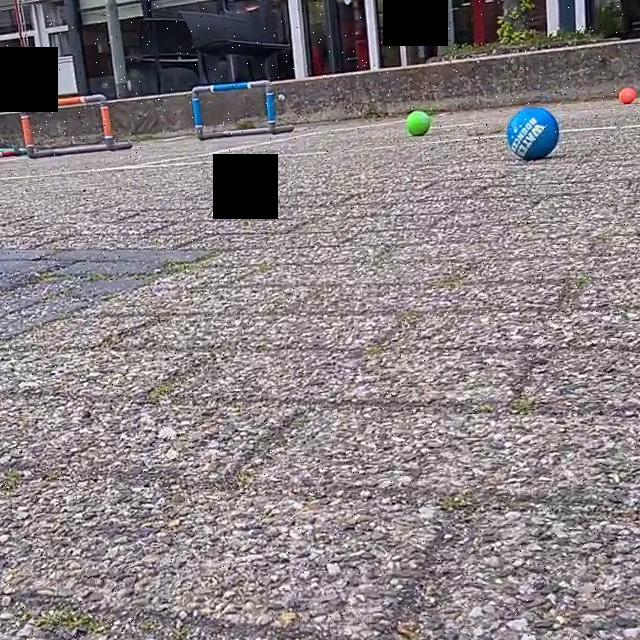ball: (404, 108, 434, 139), (618, 84, 636, 105)
